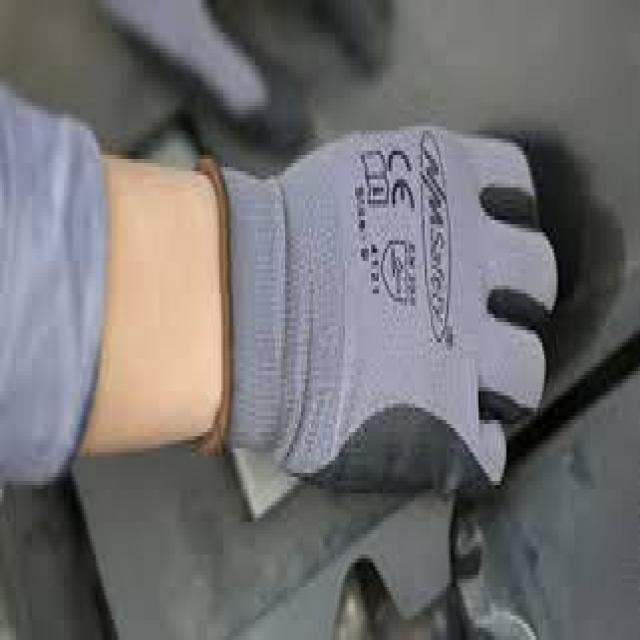Gloves: (193, 111, 561, 524)
